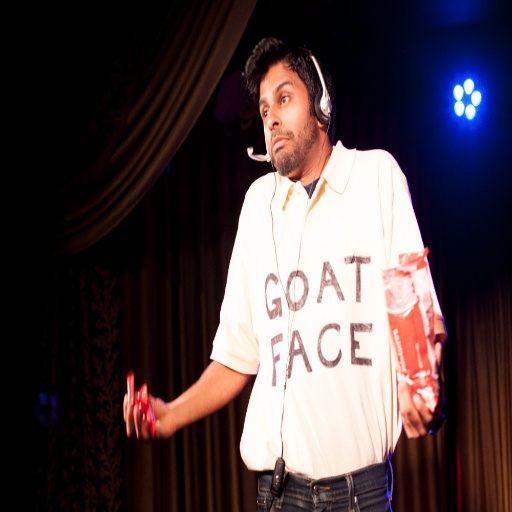hand: (121, 377, 202, 450), (396, 340, 445, 439)
